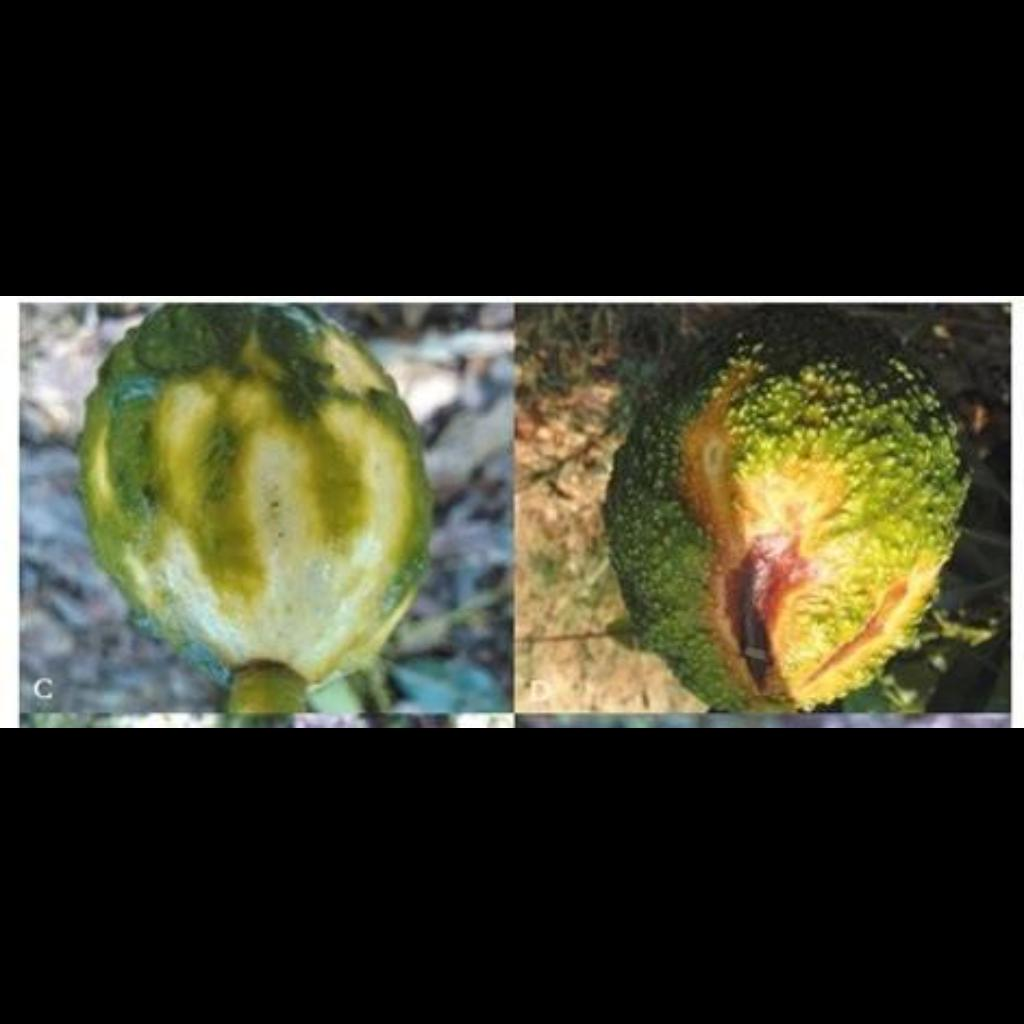sunblotch: (57, 313, 448, 685), (605, 338, 966, 721)
